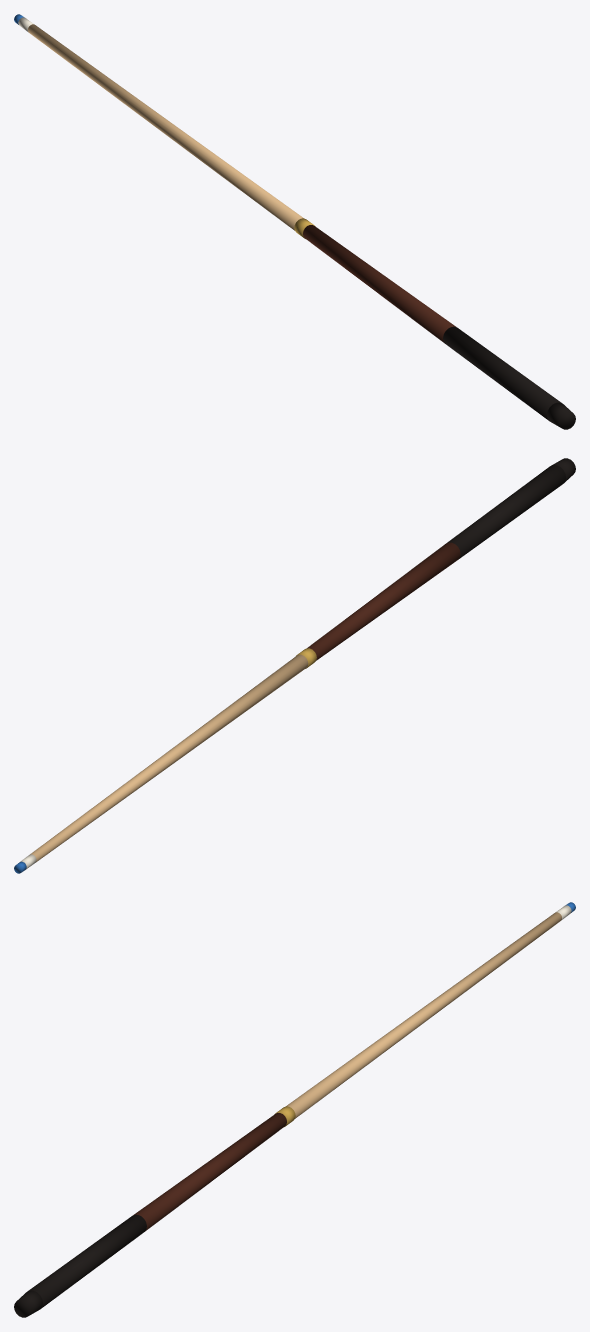
Rendered from cue.glb.
3 renders of one model, top to bottom at view 1: azimuth 30°, elevation 25°; view 2: azimuth 150°, elevation 25°; view 3: azimuth 330°, elevation 25°, orthographic.
Parts seen in each view (by area): view 1: CueStick; view 2: CueStick; view 3: CueStick.
Part boxes in pixels (x1=…): CueStick: x1=14, y1=14, x2=575, y2=429; CueStick: x1=14, y1=458, x2=575, y2=873; CueStick: x1=14, y1=902, x2=575, y2=1317.
Size of the model in its own units: 0.0296 by 0.0296 by 1.47.
